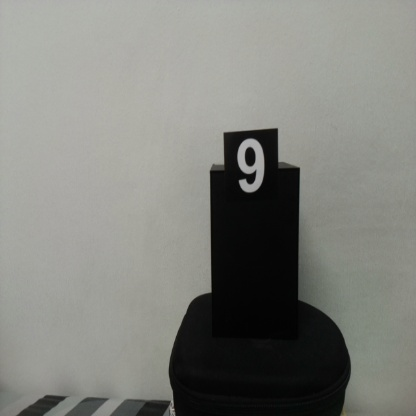id_9: (223, 133, 279, 211)
